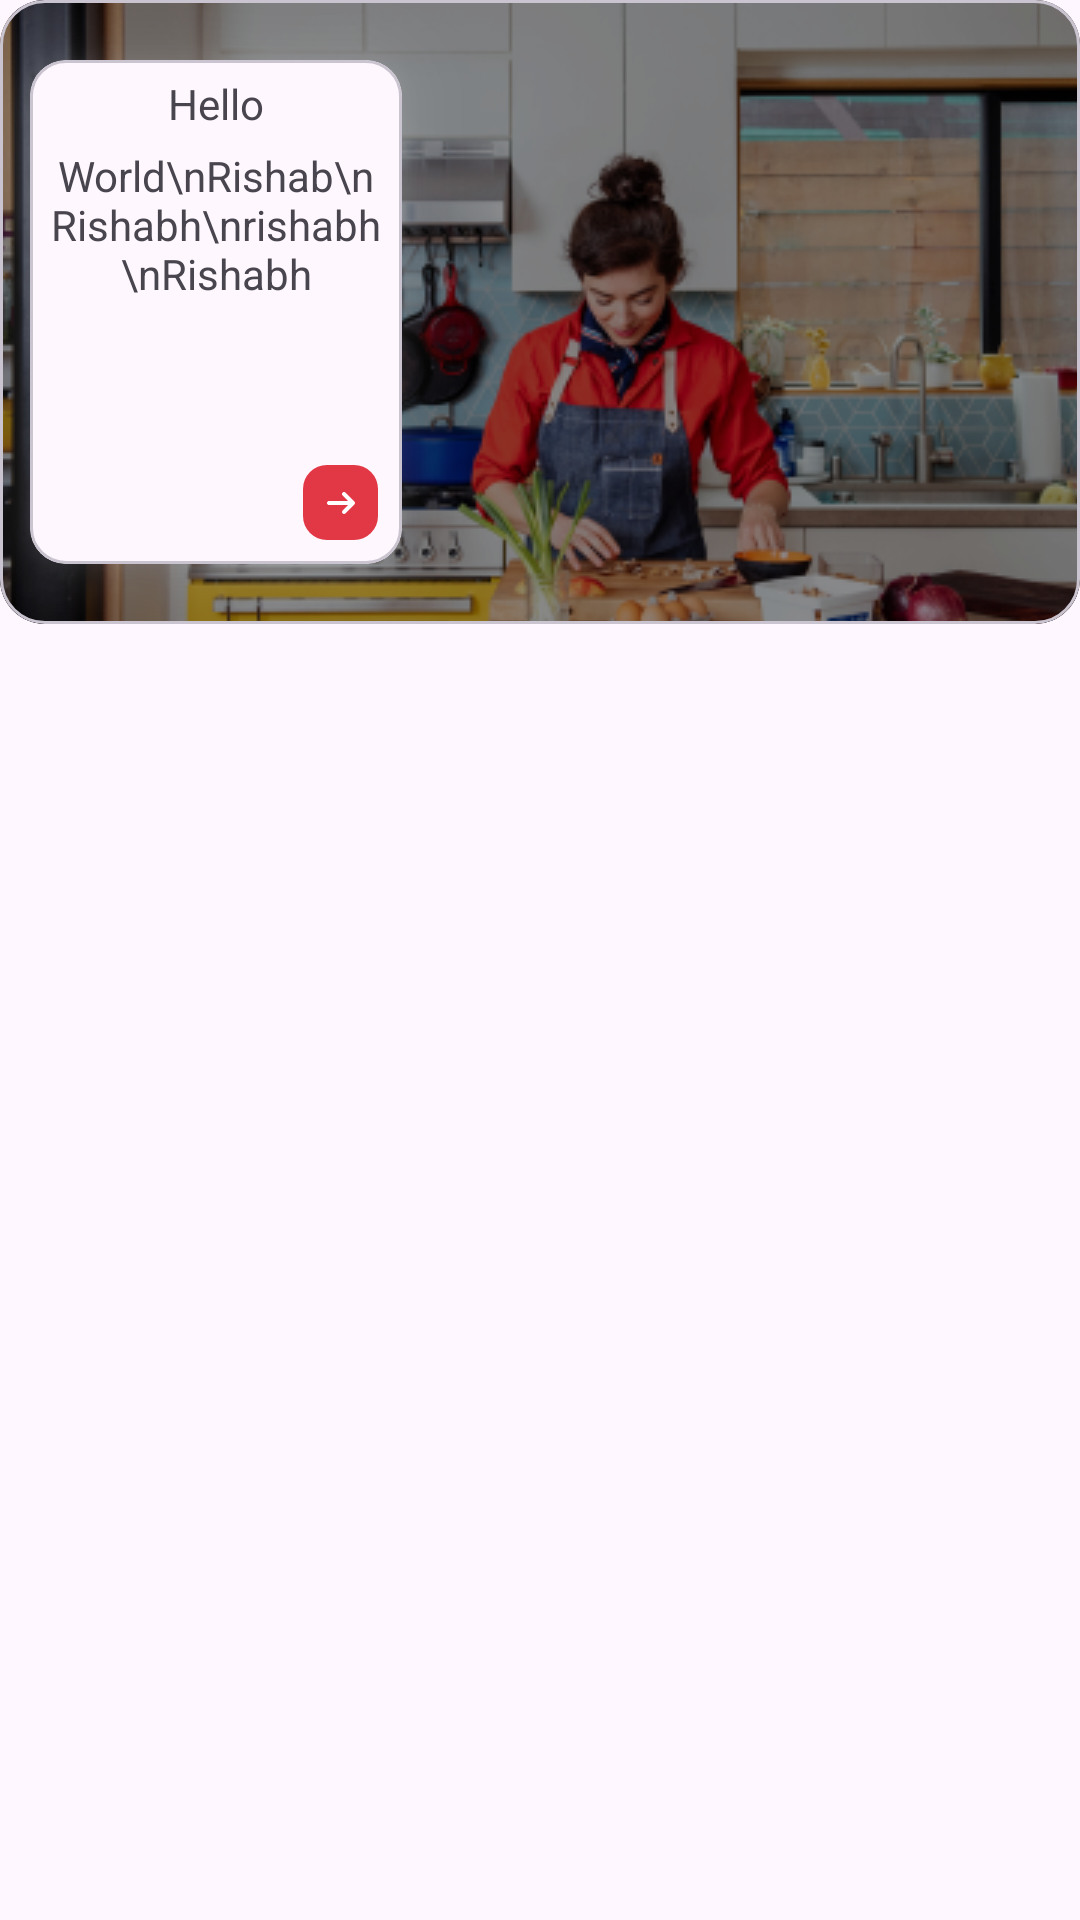

Screen size 1080 x 1920. Icon name, then its center in pixels as point (x, y):
arrow right: point (340, 502)
